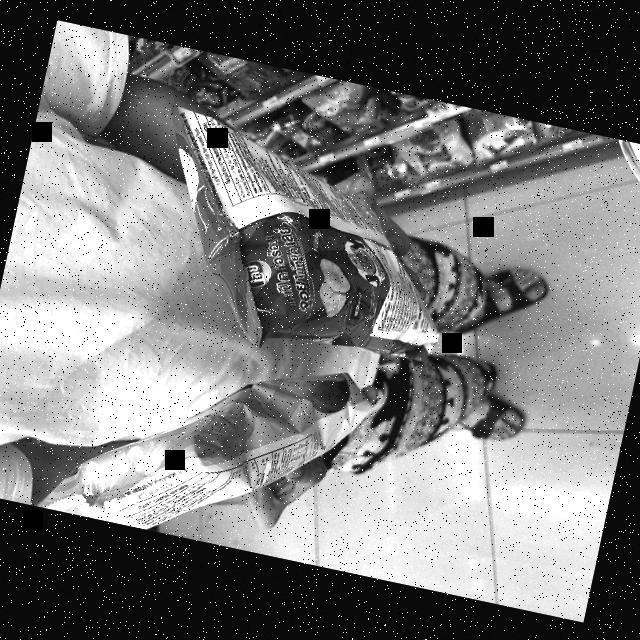snack_bag: (118, 88, 480, 380), (32, 313, 388, 571)
